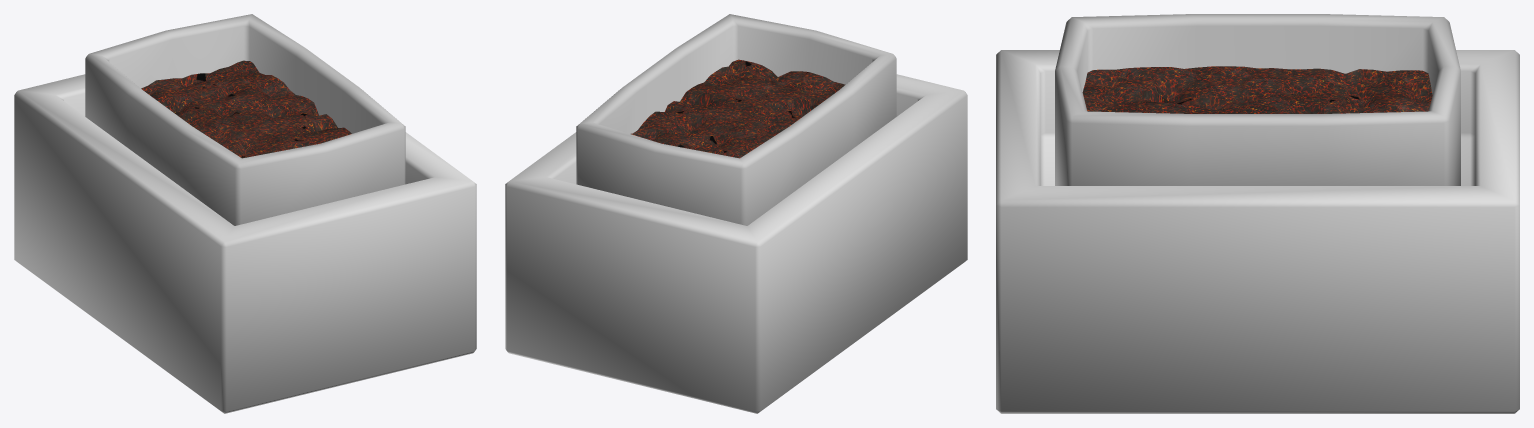
File: LavaBath.fbx
3 renders of one model, left to right at view 1: azimuth 30°, elevation 25°; view 2: azimuth 150°, elevation 25°; view 3: azimuth 270°, elevation 25°, orthographic. The views are drawn at different scales.
Parts seen in each view (by area): view 1: LavaBath, LavaRocks; view 2: LavaBath, LavaRocks; view 3: LavaBath, LavaRocks.
Boxes of the visible parts, box(x1,y1,x2,y2) form: LavaBath: box(14, 14, 476, 413); LavaRocks: box(141, 60, 351, 158); LavaBath: box(505, 14, 967, 413); LavaRocks: box(631, 59, 845, 158); LavaBath: box(996, 14, 1519, 413); LavaRocks: box(1082, 66, 1432, 113).
Bounding box in the file's own units: 1.4 × 1.15 × 2.
